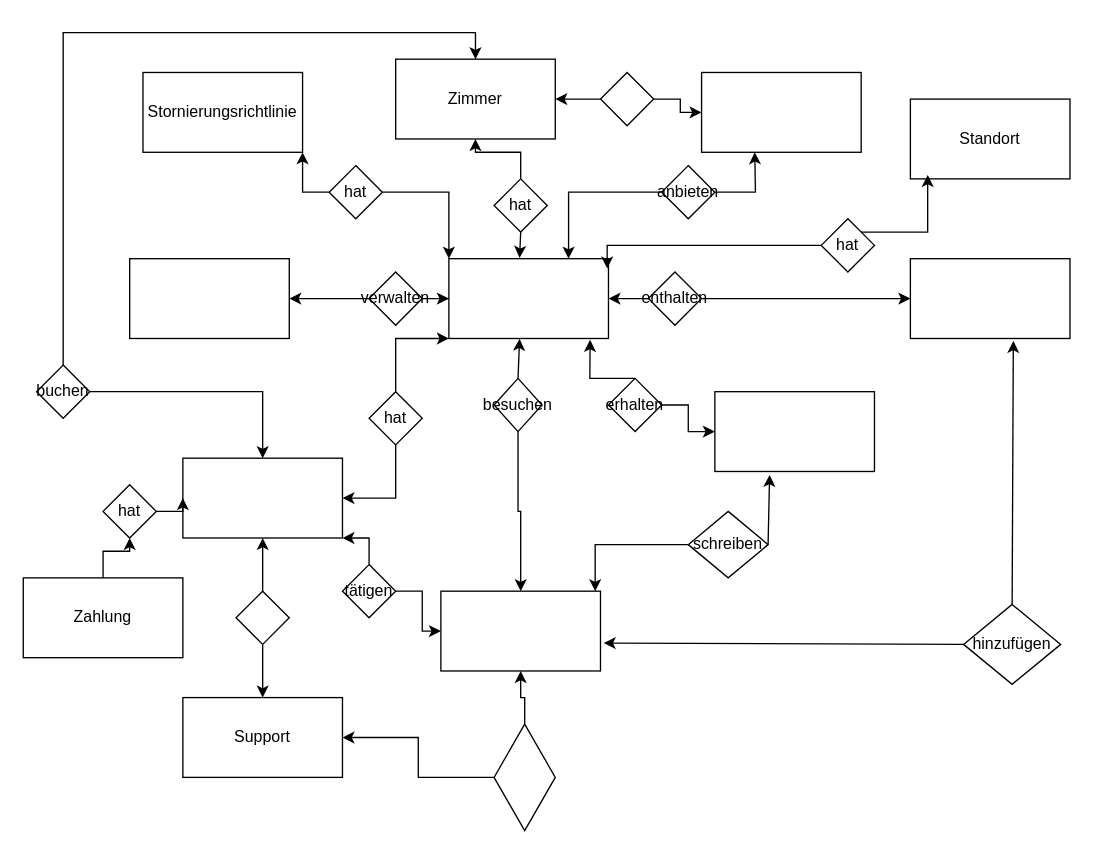
Image size: 1093x854. Some labels were removed from this diagram. The centre of each missing label's shape, as x and y in pixels:
Bewertung: the point at 794,430
beziehen: the point at 262,617
Buchung: the point at 262,497
erstellen: the point at 524,777
Favoritenliste: the point at 989,297
Gast: the point at 520,630
Hotel: the point at 528,297
Hotel-Manager: the point at 208,297
rabattieren: the point at 626,98
Sonderangebot: the point at 780,111
